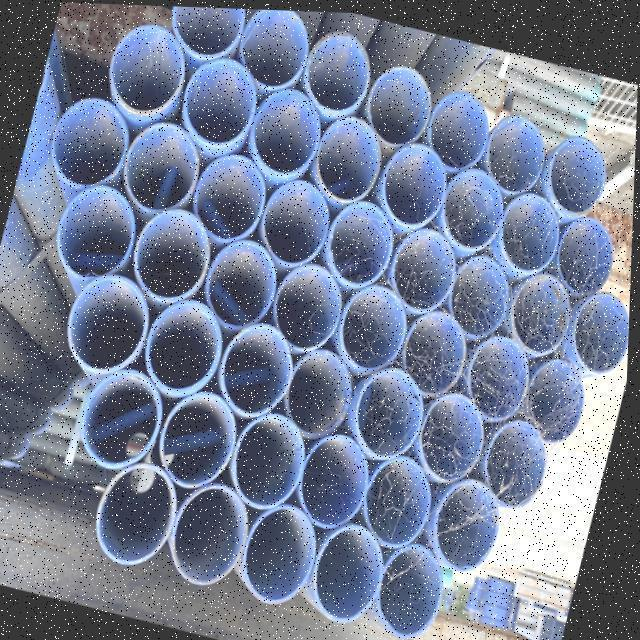pipe: (70, 354, 179, 482), (88, 450, 191, 575), (165, 468, 264, 595), (58, 262, 161, 382), (49, 170, 150, 291), (235, 490, 332, 614), (137, 285, 237, 402), (98, 8, 198, 125), (124, 194, 224, 310), (153, 377, 250, 496), (42, 83, 140, 197), (115, 109, 212, 221), (308, 511, 399, 630), (213, 310, 307, 424), (174, 44, 270, 155), (227, 399, 319, 514), (197, 226, 292, 336), (426, 465, 517, 578), (356, 442, 447, 555), (293, 419, 383, 533), (185, 142, 279, 250), (242, 76, 333, 185), (266, 250, 355, 359), (254, 166, 344, 273), (306, 104, 395, 211), (374, 533, 463, 640), (475, 403, 563, 511), (332, 270, 421, 376), (413, 377, 500, 485), (348, 354, 435, 462), (279, 337, 366, 443), (320, 188, 407, 293), (297, 14, 383, 120), (373, 130, 459, 233), (383, 214, 469, 316), (396, 297, 482, 399), (460, 321, 544, 423), (519, 344, 601, 446), (435, 153, 515, 256), (491, 179, 571, 281), (357, 56, 442, 152), (539, 122, 622, 219), (230, 7, 321, 95), (443, 243, 522, 341), (560, 274, 633, 380), (420, 78, 501, 173), (549, 203, 628, 300), (502, 261, 581, 358), (479, 102, 558, 195), (160, 5, 251, 66)
